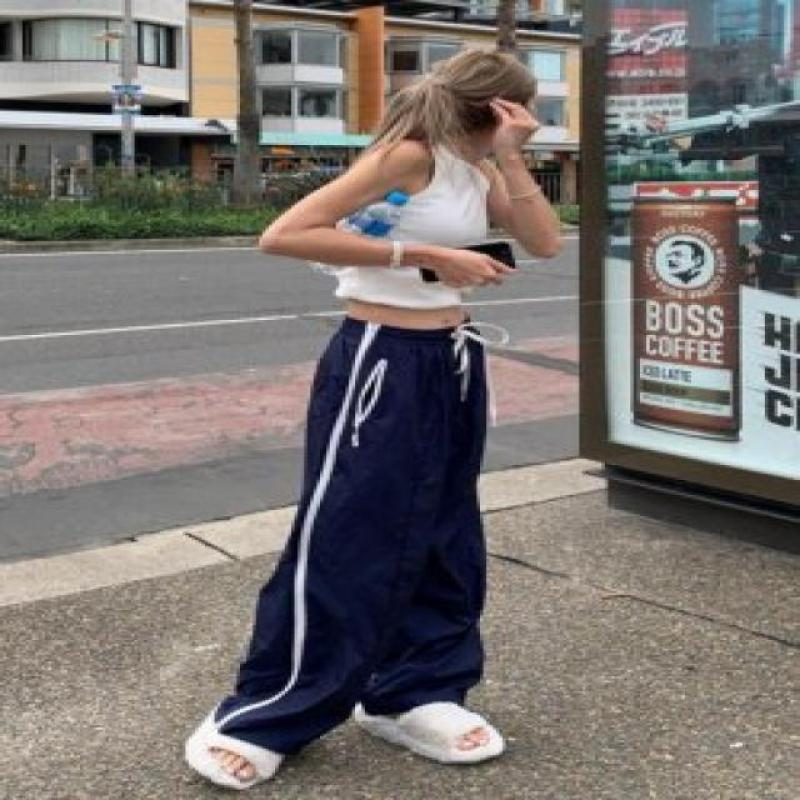trousers: (210, 311, 491, 759)
vest: (333, 140, 493, 310)
